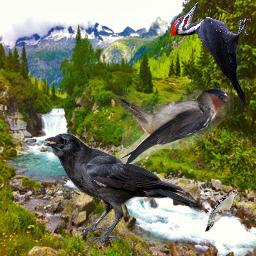Crow: (43, 132, 196, 244)
Swallow: (116, 88, 234, 164)
Woodpecker: (170, 2, 252, 118), (205, 189, 244, 232)
